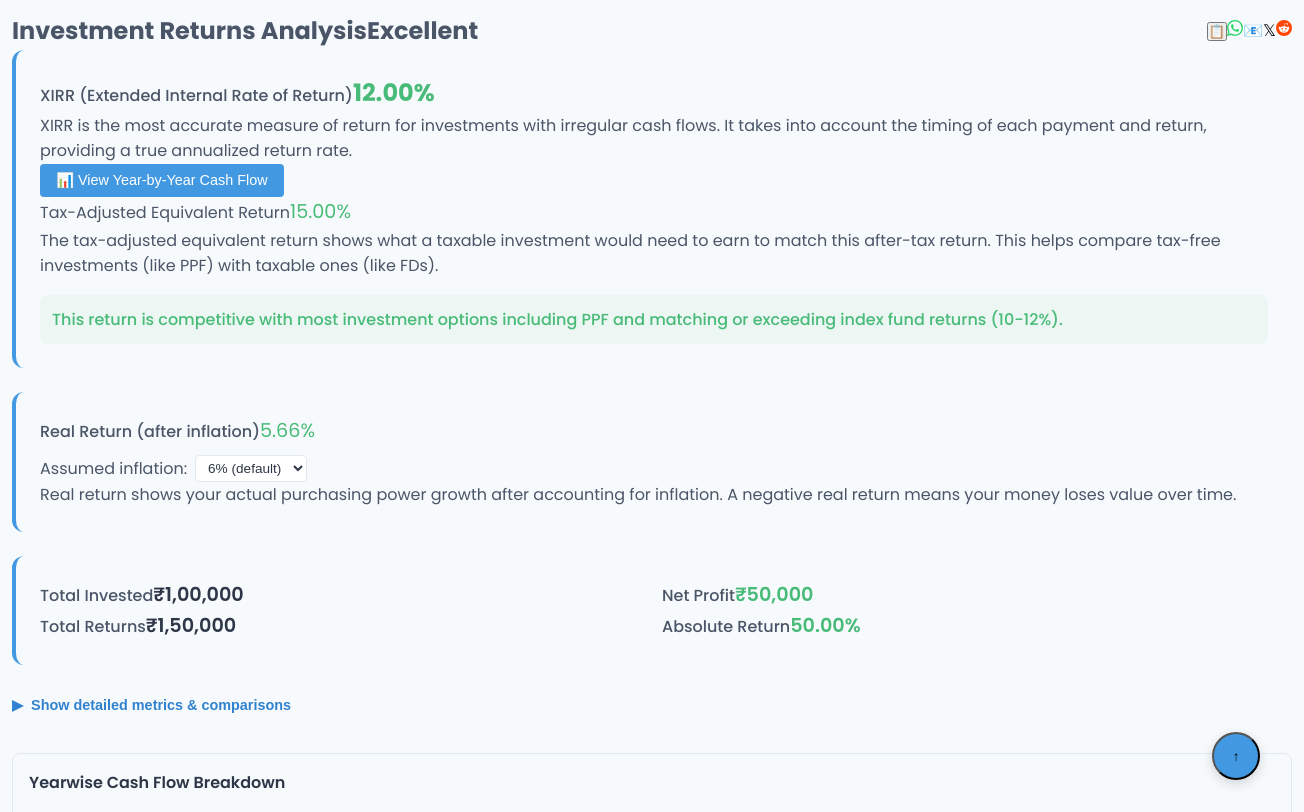
Scenario: ResultsDisplay Component › reveals IRR and CAGR when detailed metrics toggle is clicked
Check: the text "Compound Annual Growth Rate" is not shown
Click toggle
What coordinates should you click on to do the following:
click the button "▶ Show detailed metrics & comparisons"
I would click on:
 (152, 705)
Its box is [12,689,291,721].
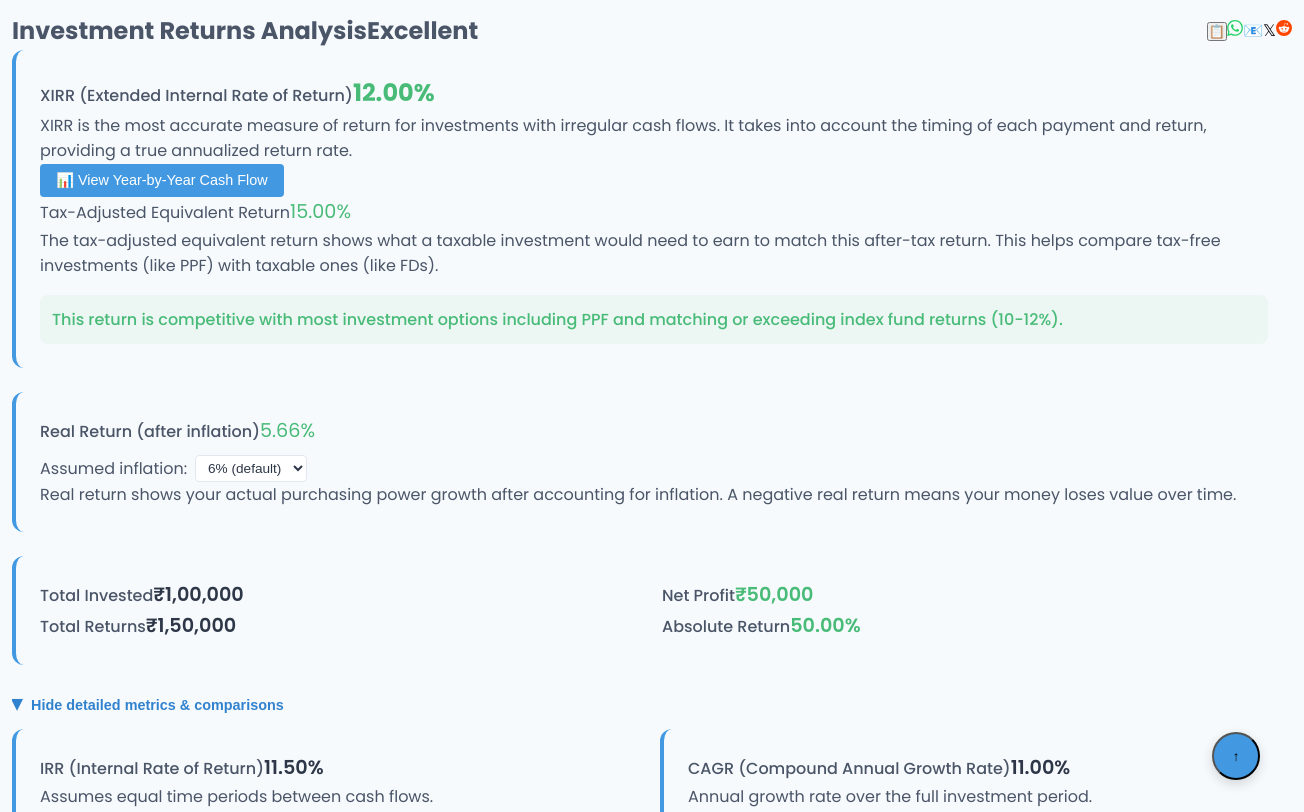
Check: the text "CAGR (Compound Annual Growth Rate)" is shown, box [688,757,1011,780]
Check: the text "IRR (Internal Rate of Return)" is shown, box [40,757,264,780]
